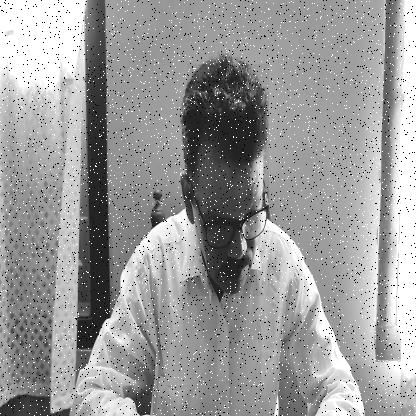Distracted: (187, 64, 269, 296)
